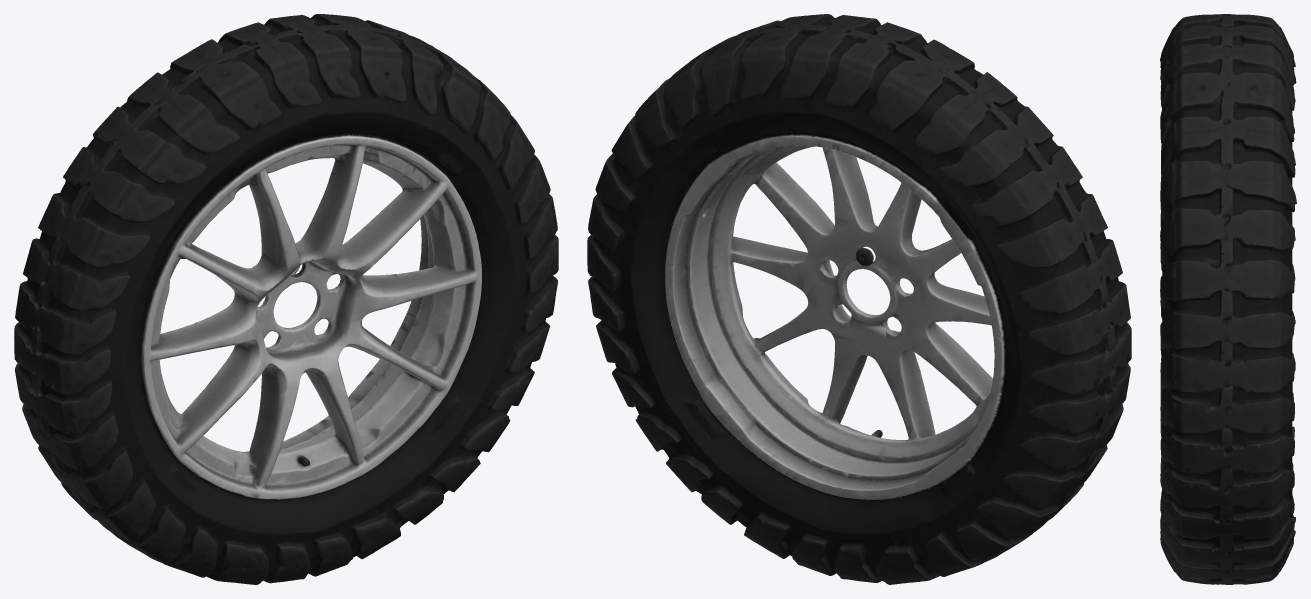
The model's file is Meshy_AI_Rugged_Alloy_Off_Road_0918161844_texture-optimized.glb.
3 renders of one model, left to right at view 1: azimuth 30°, elevation 25°; view 2: azimuth 150°, elevation 25°; view 3: azimuth 270°, elevation 25°, orthographic. The views are drawn at different scales.
Size of the model in its own units: 1.9 by 1.9 by 0.4534.
1 material, 1 textured.
